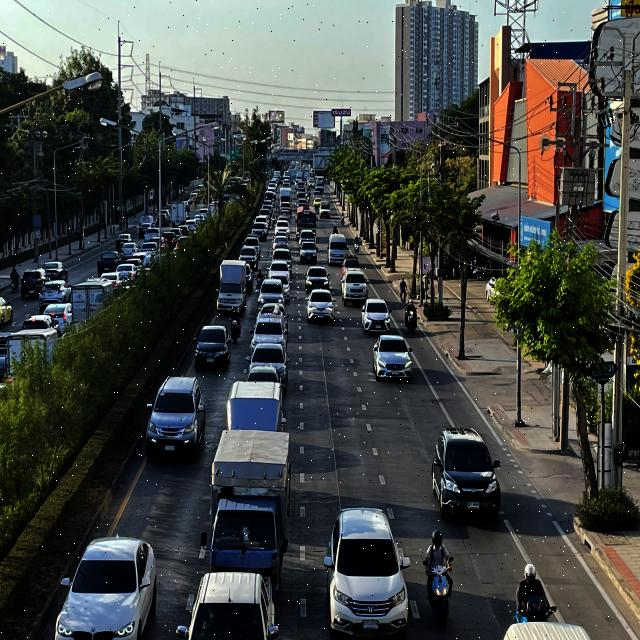bike: (422, 523, 456, 631), (510, 558, 559, 627), (403, 295, 419, 335), (229, 306, 243, 344)
car: (324, 502, 410, 640), (54, 531, 159, 640), (428, 416, 502, 526), (178, 568, 278, 640), (246, 342, 290, 391), (192, 324, 232, 371), (249, 315, 289, 348), (359, 296, 392, 333), (305, 290, 337, 326), (340, 270, 369, 307), (256, 280, 286, 312)
truck: (202, 430, 290, 607), (225, 378, 288, 434), (214, 260, 248, 315)
